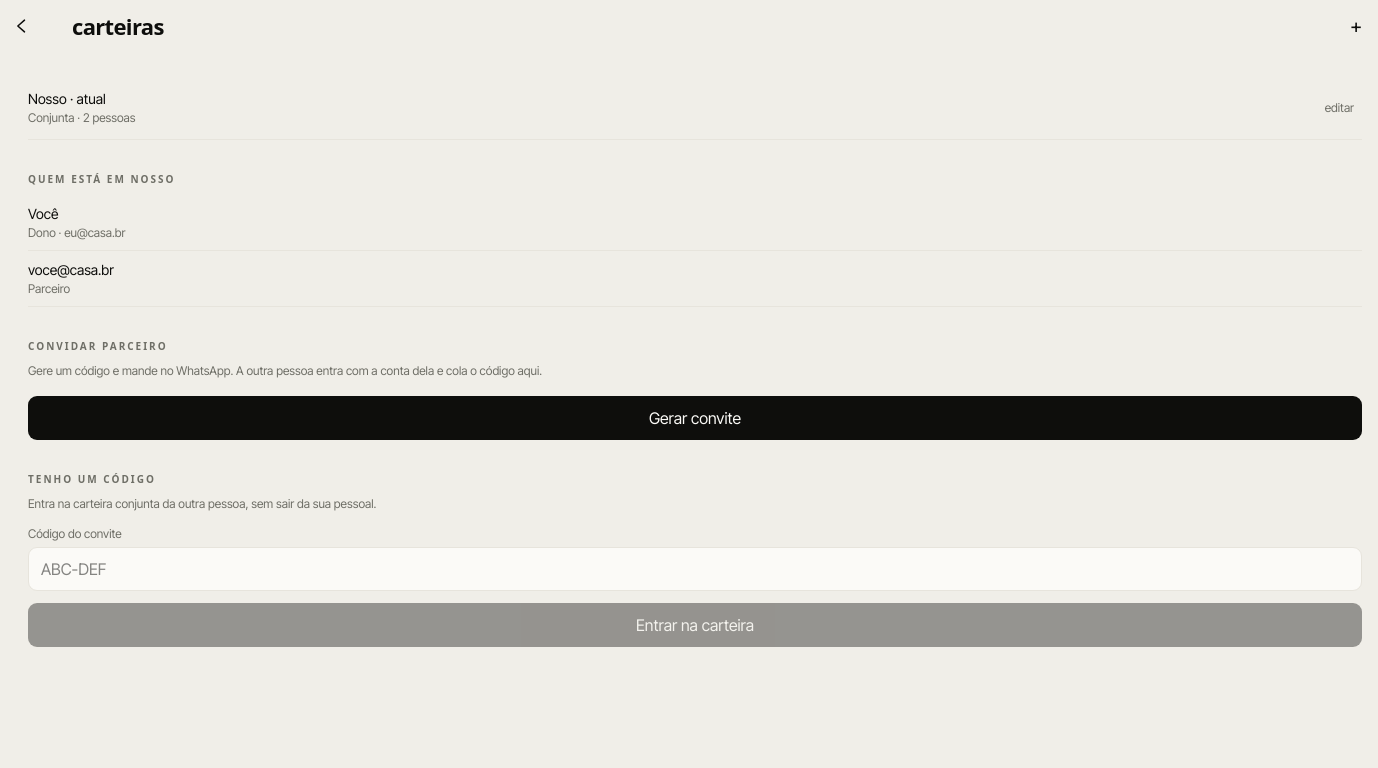
Test: Carteiras › avisa a falha ao aceitar código, em vez de engolir
Type "ABCDEF" into the field labelled "Código do convite" at (695, 569), box [28, 547, 1362, 591]
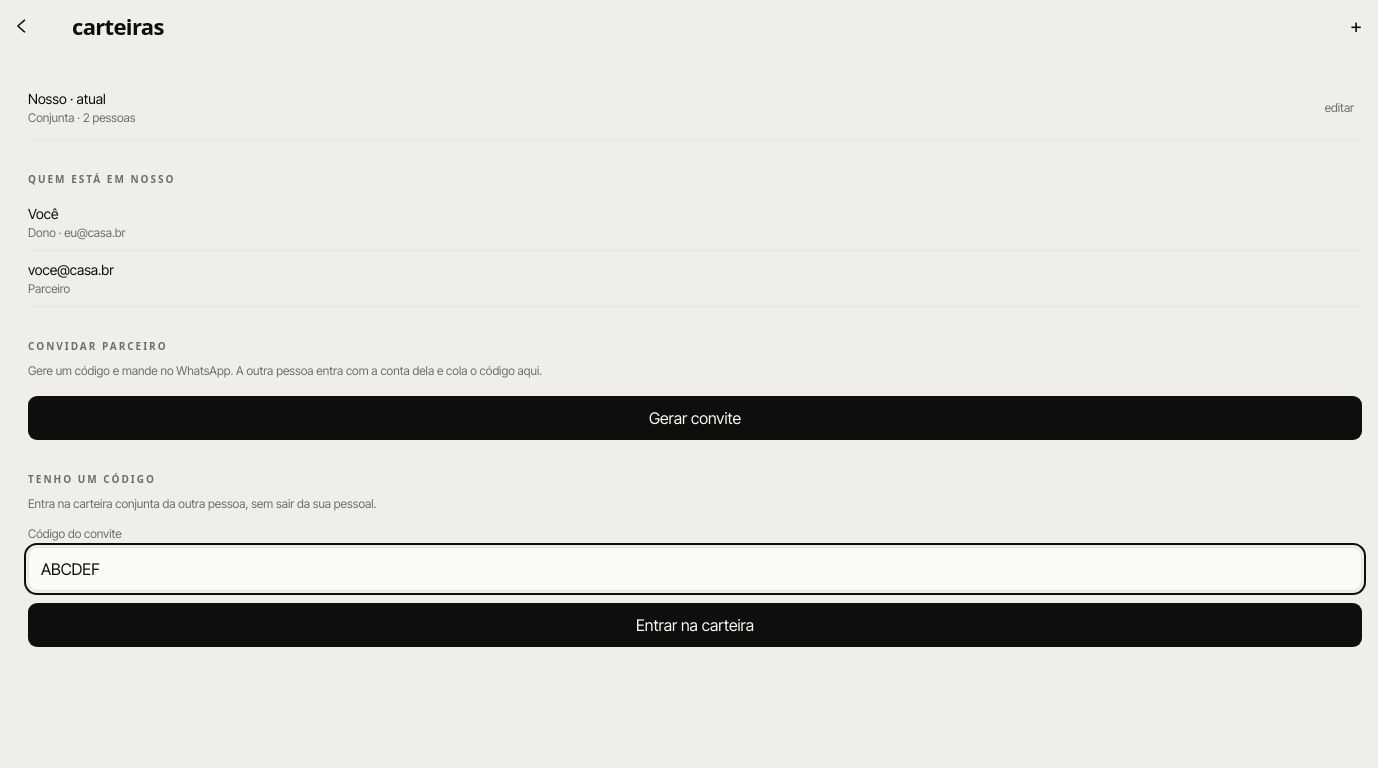
Click the button "Entrar na carteira" at (695, 625), box [28, 603, 1362, 647]
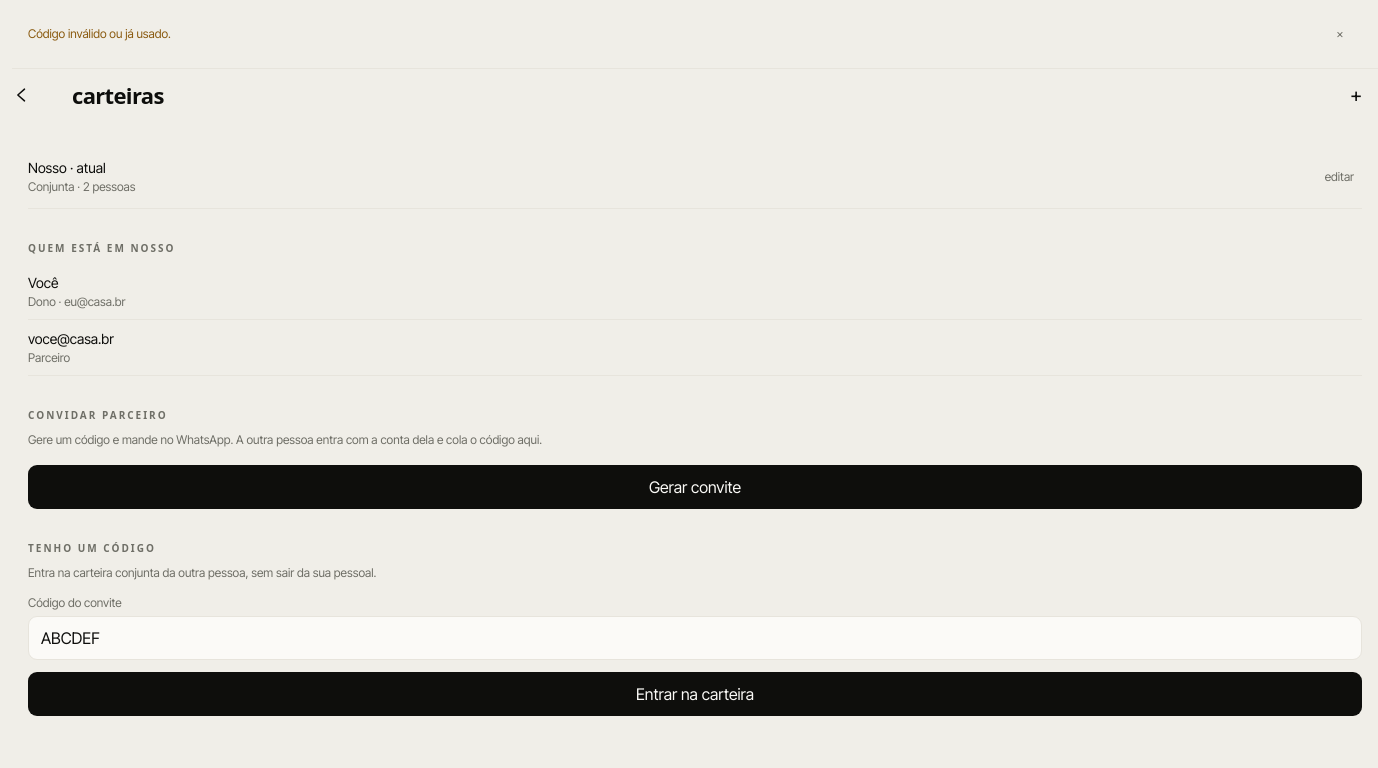
Now the message shows "Código inválido", box [28, 26, 171, 41]
